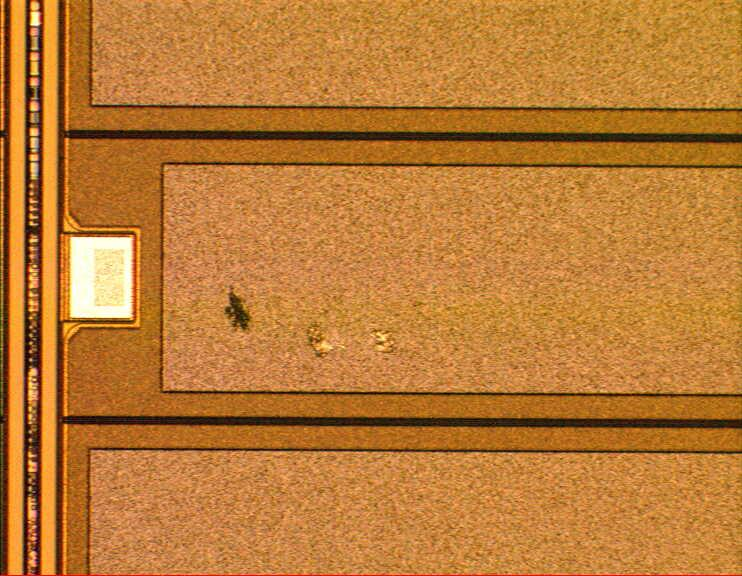SCRATCH: (207, 279, 442, 371)
